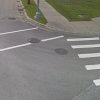crosswalk: (66, 35, 100, 87)
